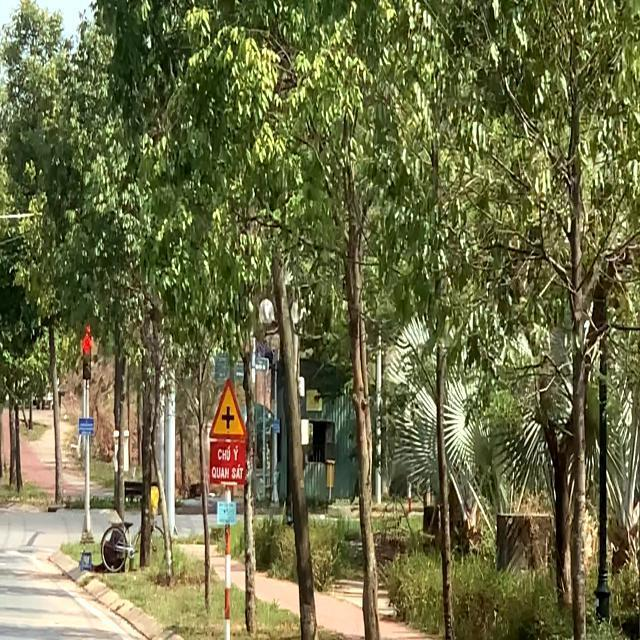205-duong-giao-nhau: (208, 380, 248, 440)
